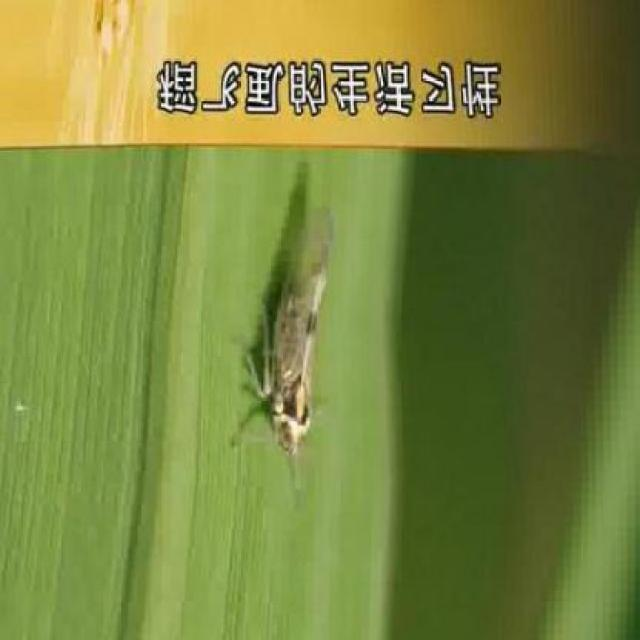brown-planthopper: (263, 202, 335, 452)
